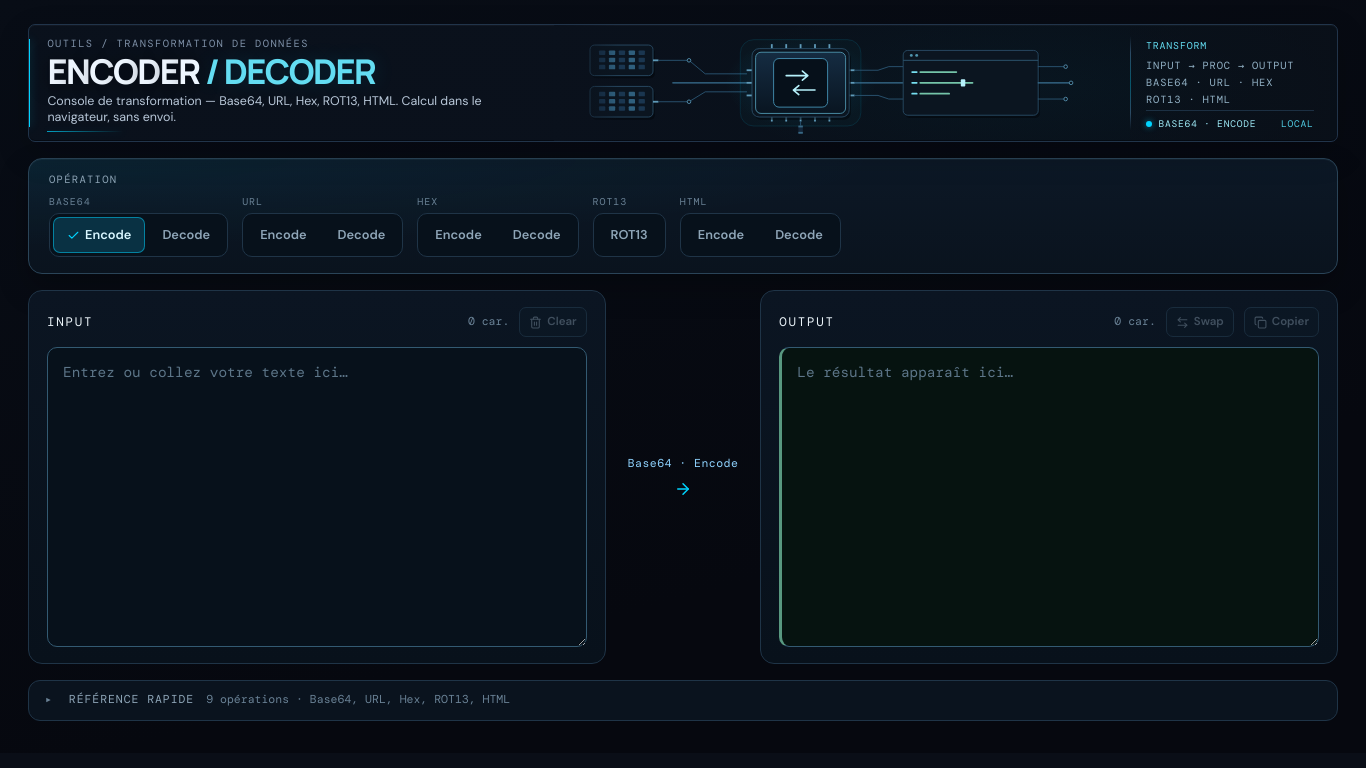
Test case: EncoderDecoder page › recomputes Hex to ROT13 and Decode to Encode from the unchanged input
Type "48656c6c6f" into the text box named "Texte à transformer" at x=317, y=497, box [47, 347, 587, 647]
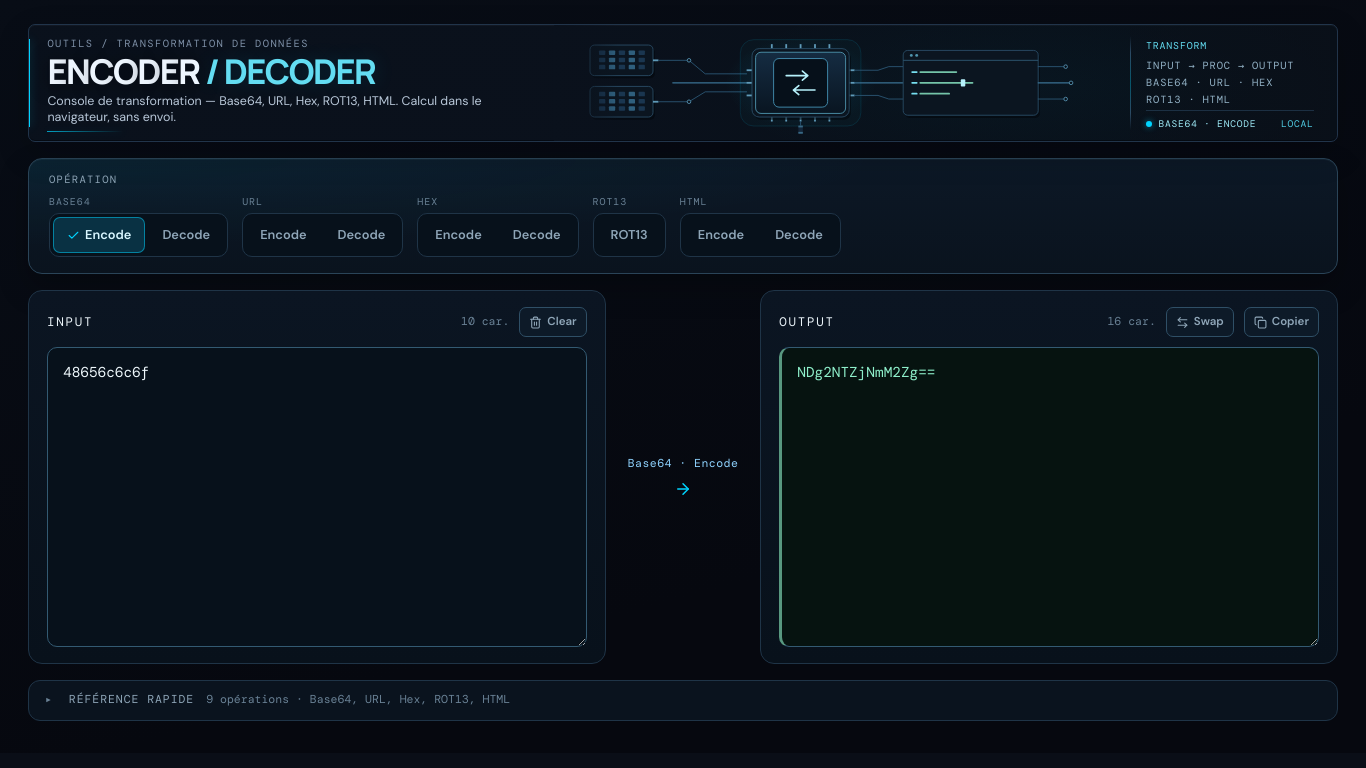
Click the button with aria-label "Hex Decode" at x=537, y=235, box [499, 217, 574, 253]
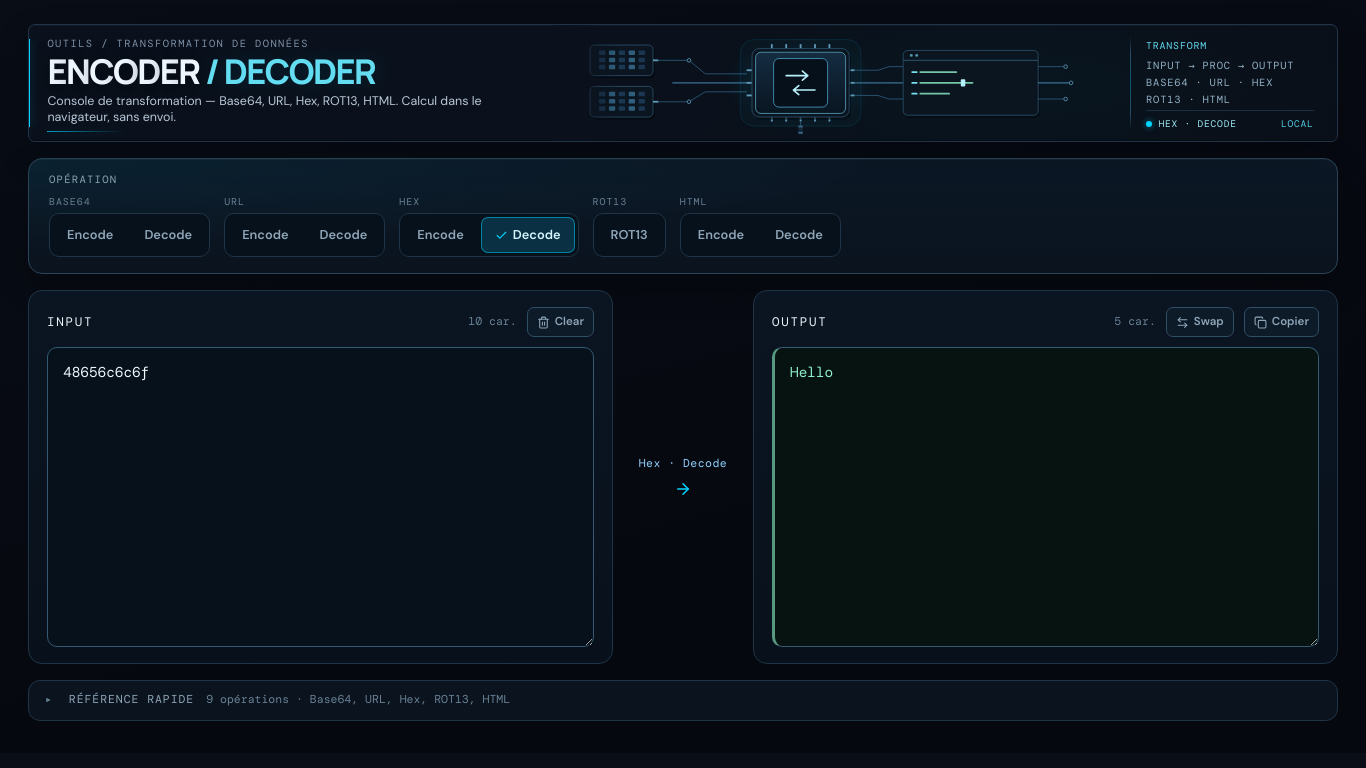
Result: the 2nd text box named "résultat" holds "Hello" at [772, 347, 1319, 647]
Click the button "ROT13 ROT13" at x=629, y=235, box [596, 217, 662, 253]
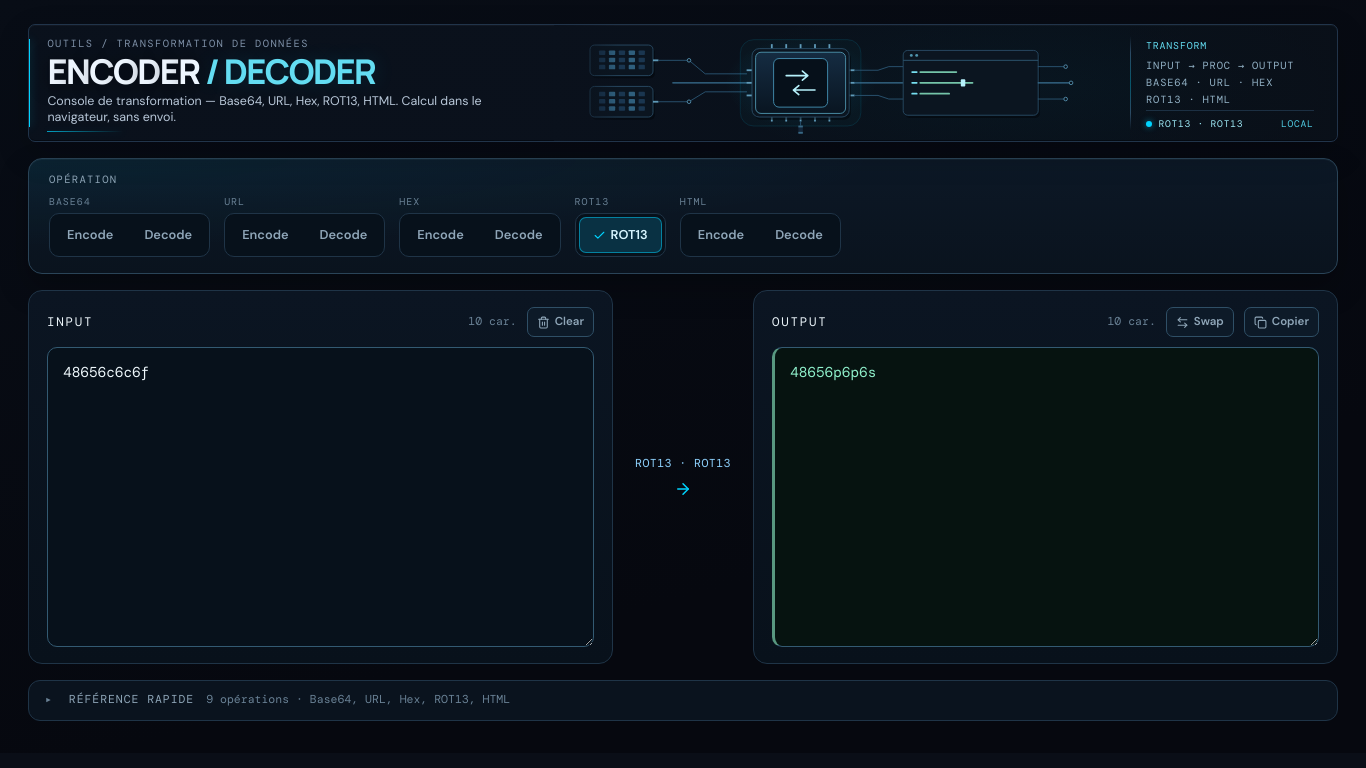
Result: the 2nd text box named "résultat" holds "48656p6p6s" at [772, 347, 1319, 647]
Click the button with aria-label "Hex Encode" at x=440, y=235, box [403, 217, 478, 253]
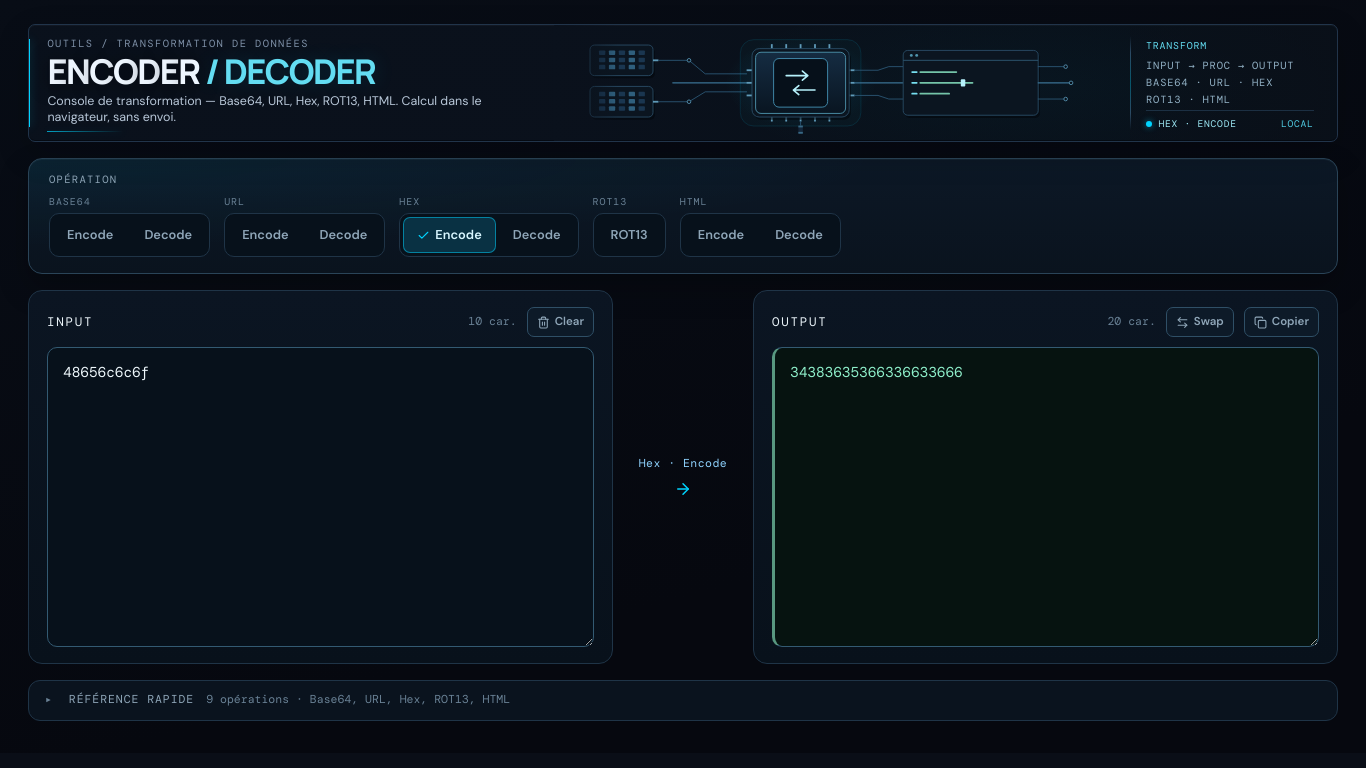
Result: the text box named "résultat" below "20" holds "34383635366336633666" at [772, 347, 1319, 647]
